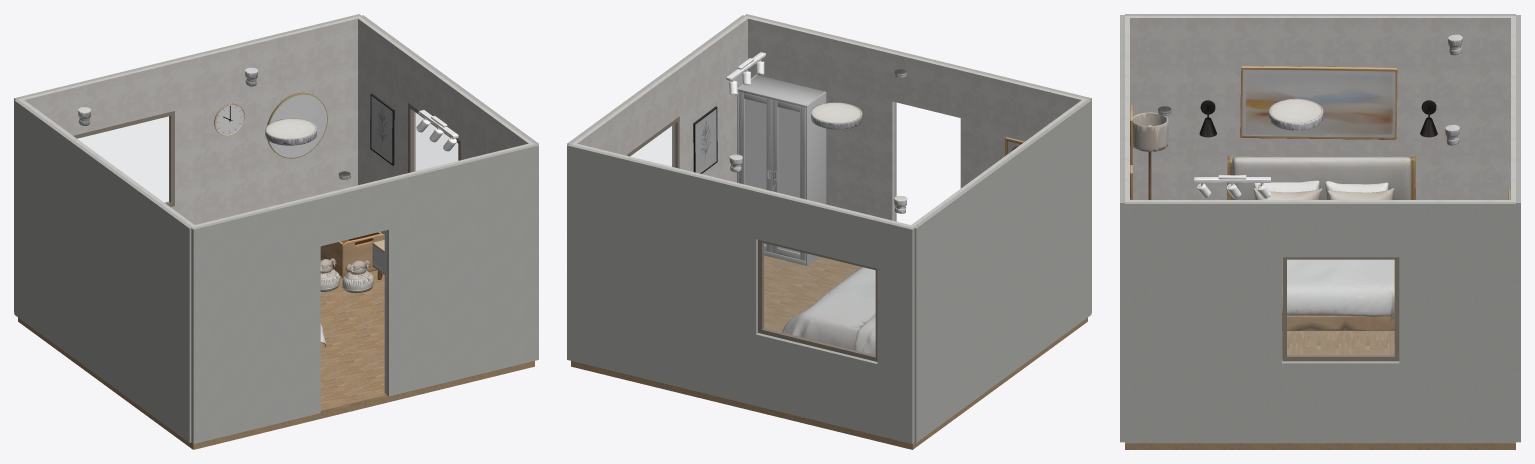
File: scene_web.glb
3 views of the same model, side by side, from view 1: azimuth 30°, elevation 25°; view 2: azimuth 150°, elevation 25°; view 3: azimuth 270°, elevation 25° (orthographic). The views are drawn at different scales.
Visible parts, largest first — view 1: geometry_0.003, geometry_0.007, geometry_0, geometry_0.004, Mesh_0, glass, geometry_0.017, glass.001, geometry_0.012, geometry_0.019, geometry_0.002, geometry_0.023 (+9 smaller); view 2: geometry_0.001, geometry_0.007, geometry_0.002, geometry_0.004, glass, Mesh_0, geometry_0.008, P_11823adfd27b5318.001, P_ac2c10a63efbaf87.001, P_da0a1b4ea539ee8c.001, frame, geometry_0.003 (+13 smaller); view 3: geometry_0.005, geometry_0.006, geometry_0.008, glass.001, geometry_0.014, Mesh_0, frame.001, geometry_0.001, geometry_0.003, geometry_0.013, geometry_0.023, geometry_0.026 (+6 smaller).
Part boxes in pixels (<box>): geometry_0.003: <box>191,144,538,443</box>; geometry_0.007: <box>14,99,192,442</box>; geometry_0: <box>22,17,357,224</box>; geometry_0.004: <box>356,16,534,234</box>; Mesh_0: <box>18,270,534,449</box>; glass: <box>78,117,169,202</box>; geometry_0.017: <box>267,92,327,158</box>; glass.001: <box>412,111,457,171</box>; geometry_0.012: <box>320,232,384,278</box>; geometry_0.019: <box>370,93,394,165</box>; geometry_0.002: <box>195,143,530,394</box>; geometry_0.023: <box>265,118,316,145</box>; geometry_0.001: <box>567,144,914,443</box>; geometry_0.007: <box>913,99,1091,442</box>; geometry_0.002: <box>748,17,1083,220</box>; geometry_0.004: <box>571,16,749,182</box>; glass: <box>763,243,875,355</box>; Mesh_0: <box>571,255,1087,449</box>; geometry_0.008: <box>782,267,875,355</box>; P_11823adfd27b5318.001: <box>778,107,800,253</box>; P_ac2c10a63efbaf87.001: <box>744,99,766,245</box>; P_da0a1b4ea539ee8c.001: <box>806,91,826,265</box>; frame: <box>758,240,877,361</box>; geometry_0.003: <box>745,14,1091,312</box>; geometry_0.005: <box>1125,202,1515,443</box>; geometry_0.006: <box>1125,16,1515,199</box>; geometry_0.008: <box>1227,156,1415,330</box>; glass.001: <box>1287,260,1394,355</box>; geometry_0.014: <box>1240,66,1397,139</box>; Mesh_0: <box>1125,331,1515,449</box>; frame.001: <box>1282,257,1399,361</box>; geometry_0.001: <box>1516,15,1520,442</box>; geometry_0.003: <box>1120,15,1124,442</box>; geometry_0.013: <box>1132,112,1168,199</box>; geometry_0.023: <box>1268,98,1323,130</box>; geometry_0.026: <box>1194,175,1270,198</box>.
Bounding box in the file's own units: 4.6 × 2.8 × 4.1.
Materials: 43 (33 with a texture image).
